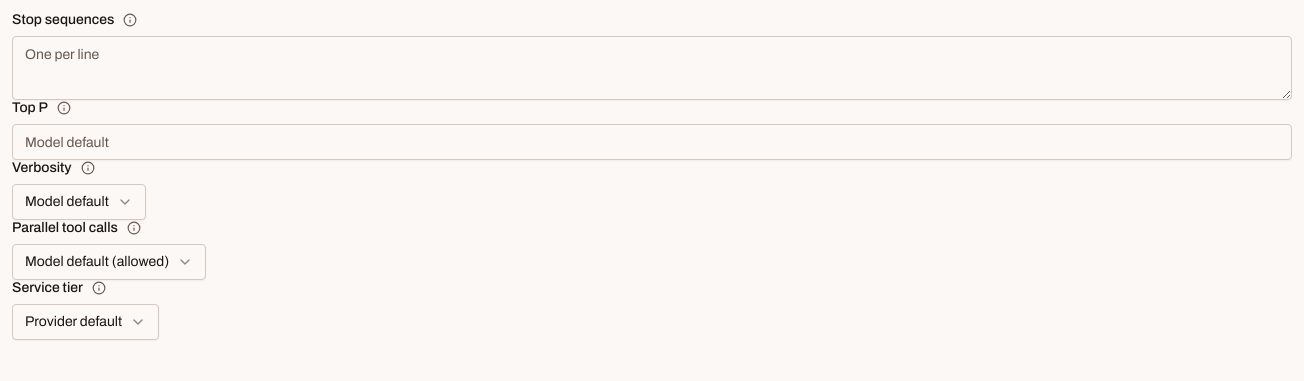
Test: ModelParamsFields › says when top P is outside 0–1, rather than changing what was typed
The image size is (1304, 381).
Type "5" into the number field labelled "Top P" at (652, 142), box [12, 124, 1292, 160]
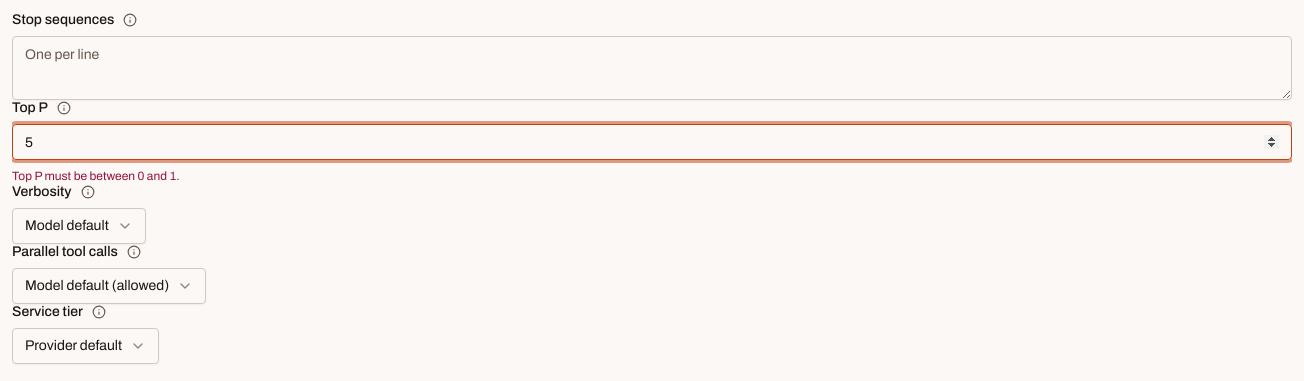
Now the text "Top P must be between 0 and 1." is shown, box [12, 169, 180, 183]
